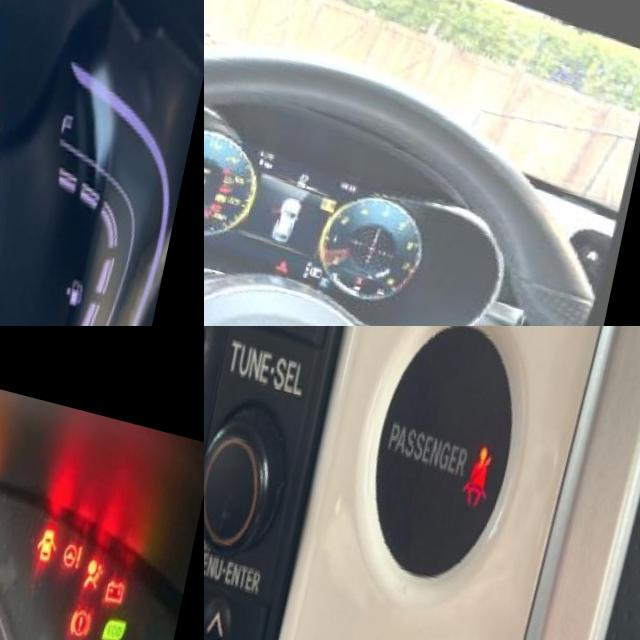Electronic Power Steering: (68, 514, 94, 553)
Engine cooling system: (373, 255, 384, 268)
Seat Belt: (471, 414, 509, 495)
